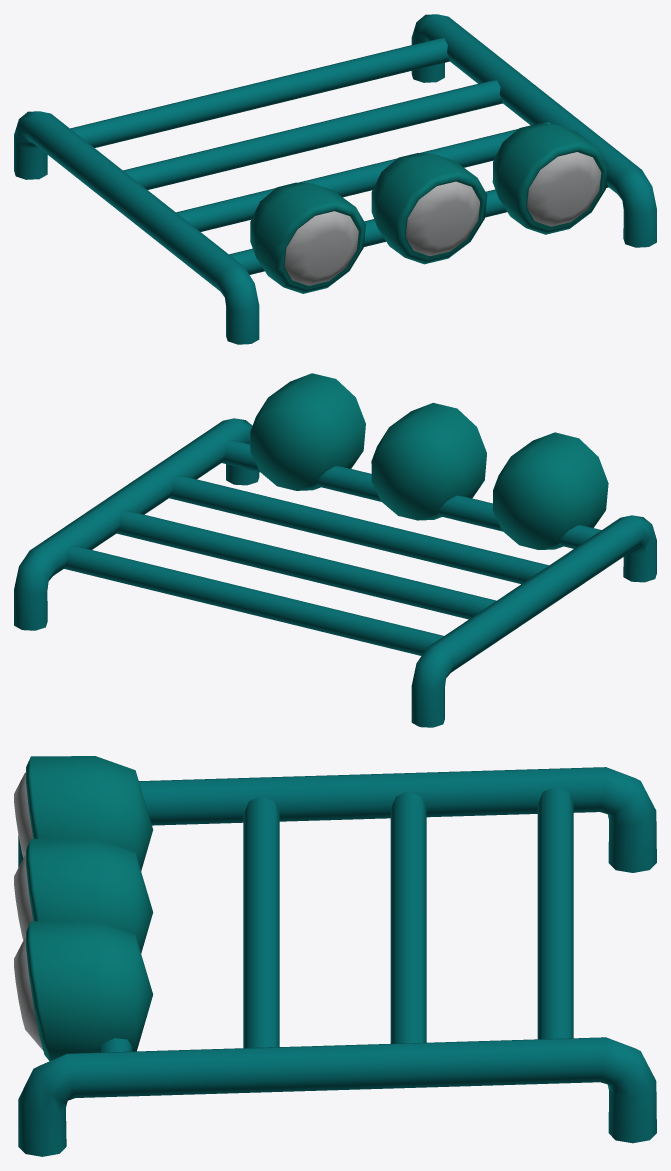
File: Car_14_FogLight.fbx
3 views of the same model, one above another, from view 1: azimuth 30°, elevation 25°; view 2: azimuth 150°, elevation 25°; view 3: azimuth 270°, elevation 25° (orthographic). The views are drawn at different scales.
Visible parts, largest first — view 1: Car_14_FogLight; view 2: Car_14_FogLight; view 3: Car_14_FogLight.
Boxes of the visible parts, box(x1,y1,x2,y2) form: Car_14_FogLight: box(14, 14, 656, 344); Car_14_FogLight: box(14, 373, 656, 727); Car_14_FogLight: box(14, 756, 656, 1156).
Bounding box in the file's own units: 104 × 97.09 × 27.49.
